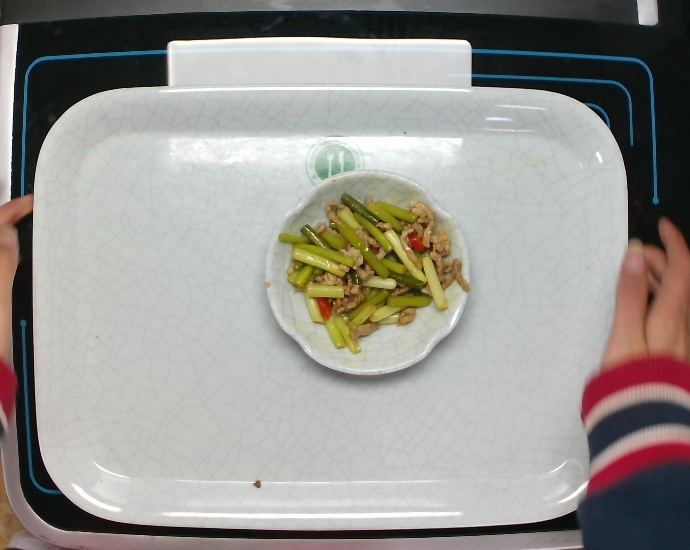JYsf-Ao_Yuan_Wan: (261, 167, 474, 378)
